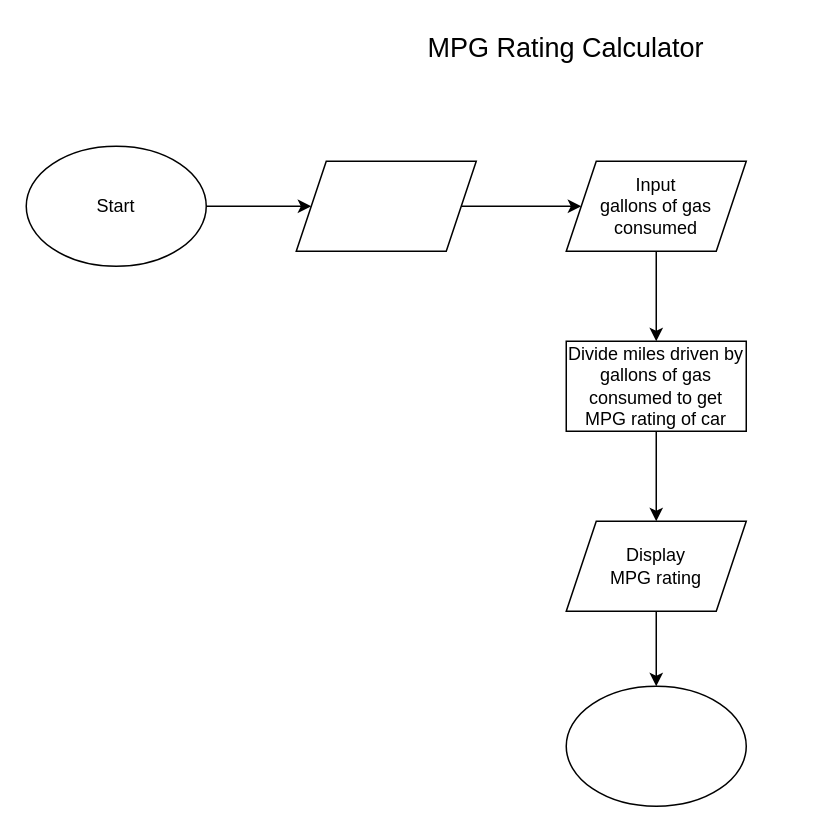
This 833x833 diagram has some shape labels left out. The centre of each missing label's shape, as x and y in pixels:
End: (x=655, y=745)
Input miles driven: (x=385, y=205)
